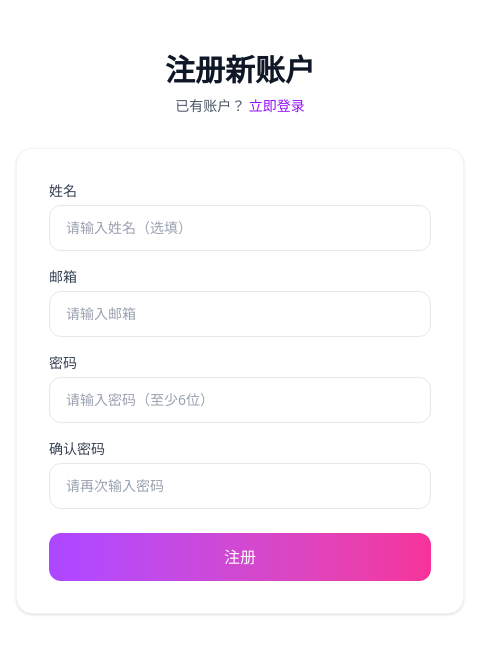
it: Register › should show error message on registration failure
Type "existing@test.com" into the field labelled "邮箱" at (240, 314), box [49, 291, 431, 337]
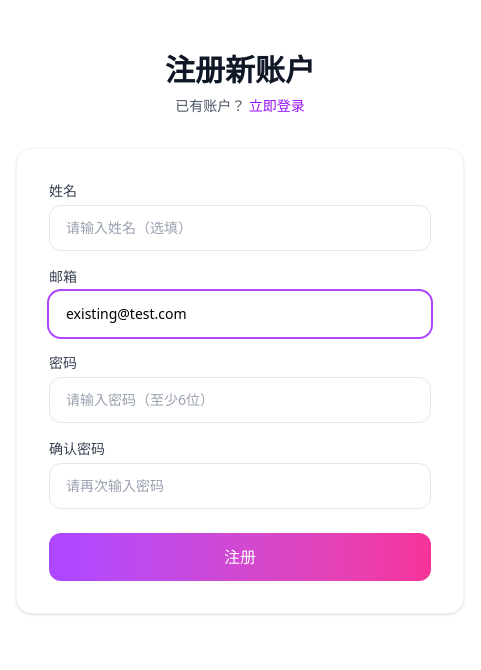
Type "123456" into the password field labelled "密码" at (240, 400), box [49, 377, 431, 423]
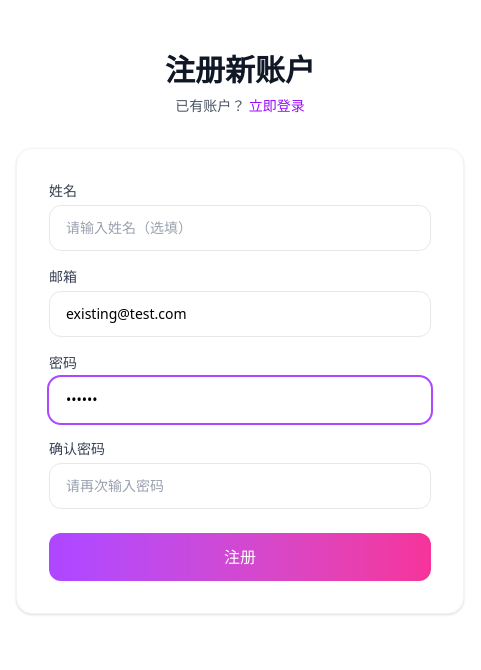
Type "123456" into the password field labelled "确认密码" at (240, 486), box [49, 463, 431, 509]
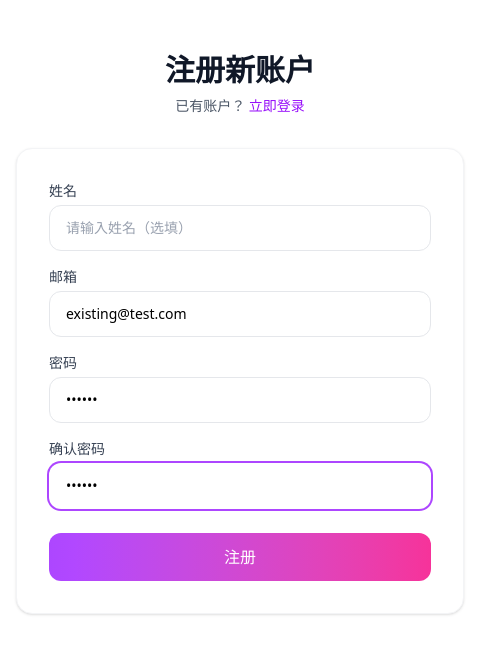
Click the button "注册" at (240, 557), box [49, 533, 431, 581]
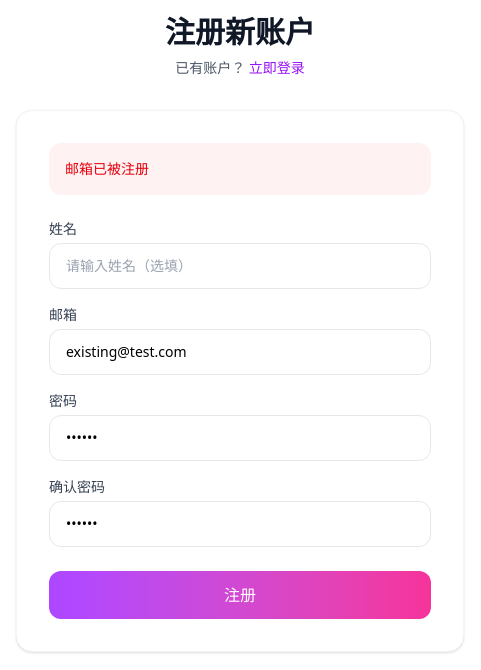
Check: the text "邮箱已被注册" is shown, box [49, 143, 431, 195]
